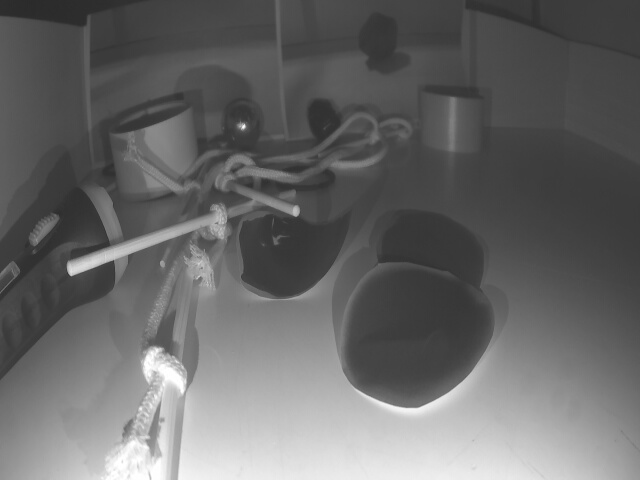Live: (221, 98, 262, 145)
